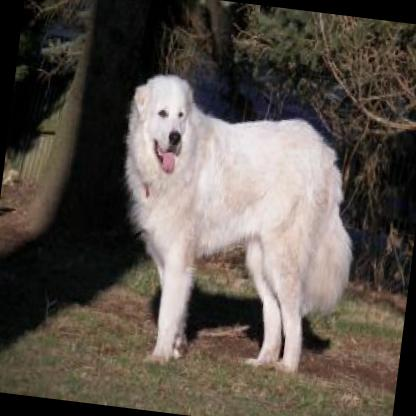Great_Pyrenees: (97, 67, 368, 380)
